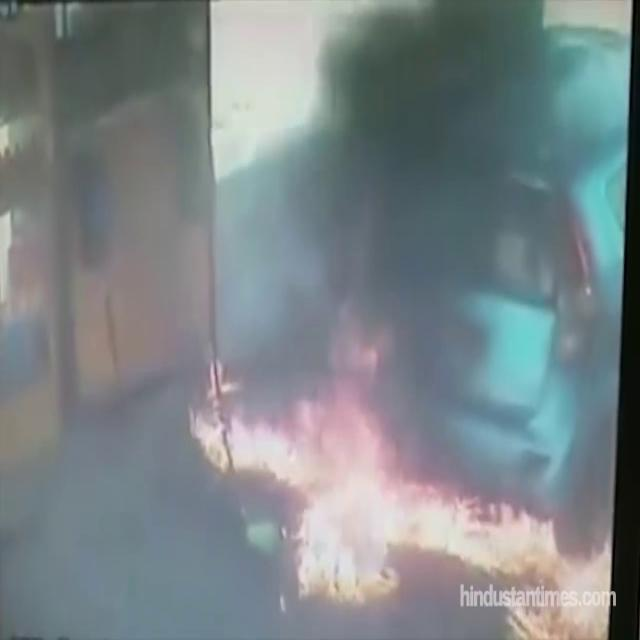Fire: (192, 317, 614, 638)
Smoke: (288, 0, 564, 372)
